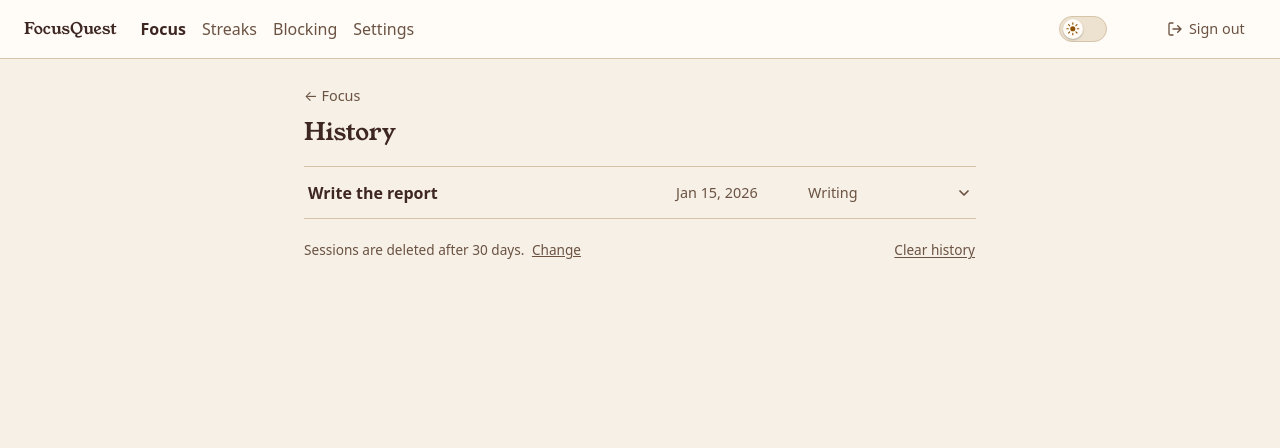
Test: HistoryView › shows a camera-verified session net of its off-task time, with its episodes on request
Step 1. Click the button "Write the report Jan 15, 2026 Writing" → {"x": 373, "y": 193}, box [304,167,976,218]
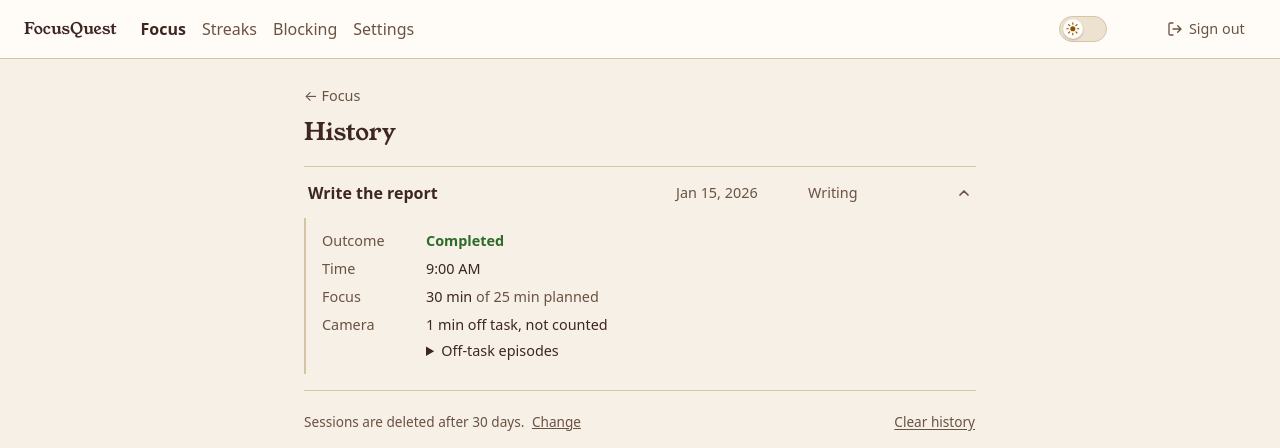
Expected: the text with test id "history-camera" reads "1 min off task, not counted", [426,315,608,334]
Expected: the heading "Off-task episodes" is shown, [441,341,559,360]
